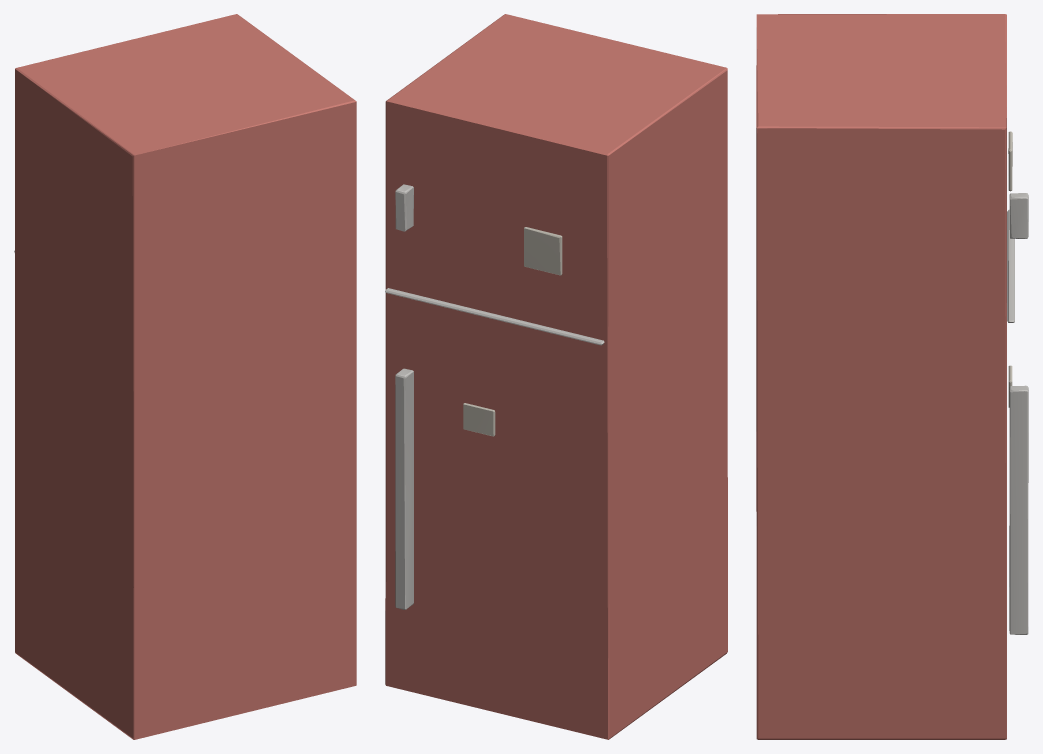
Rendered from furn_fridge__red_low.glb.
3 views of the same model, side by side, from view 1: azimuth 30°, elevation 25°; view 2: azimuth 150°, elevation 25°; view 3: azimuth 270°, elevation 25° (orthographic). The views are drawn at different scales.
Size of the model in its own units: 0.7 by 1.75 by 0.7043.
